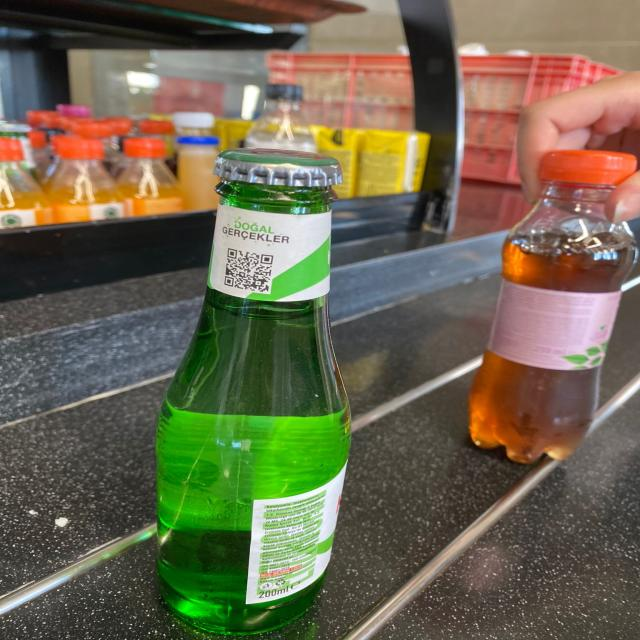yan_yemek: (152, 146, 354, 635)
